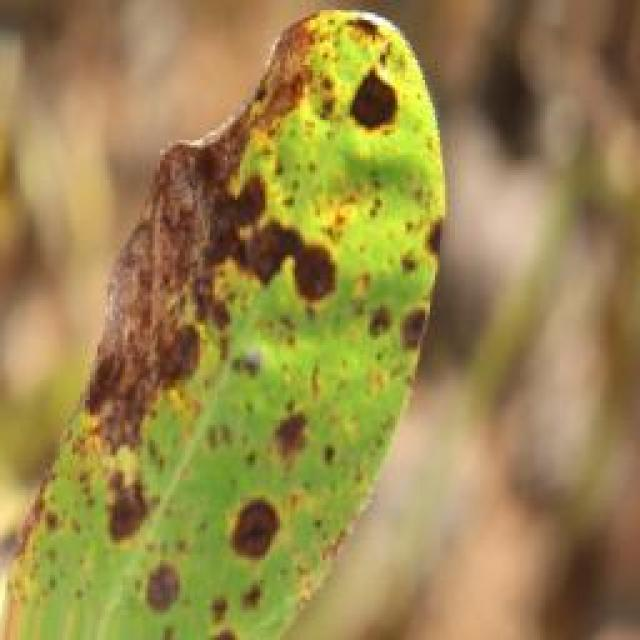Yellowish: (32, 0, 452, 605)
